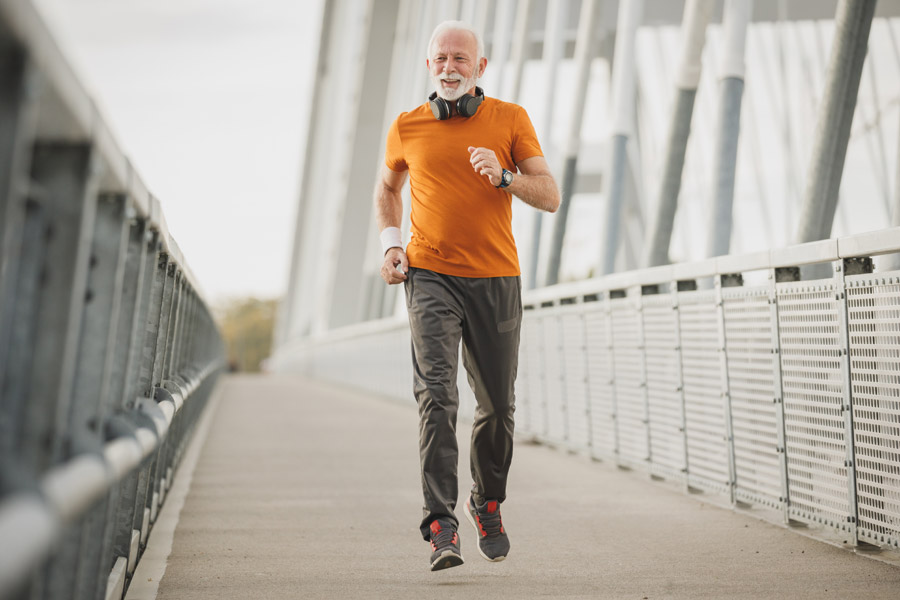male: (371, 16, 564, 573)
